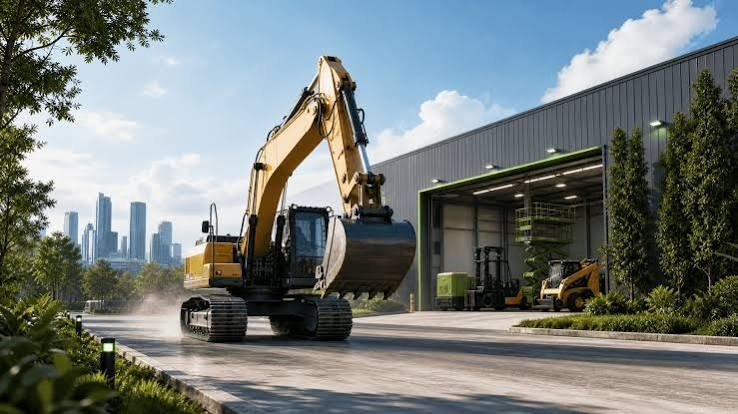excavator: (163, 49, 421, 365)
